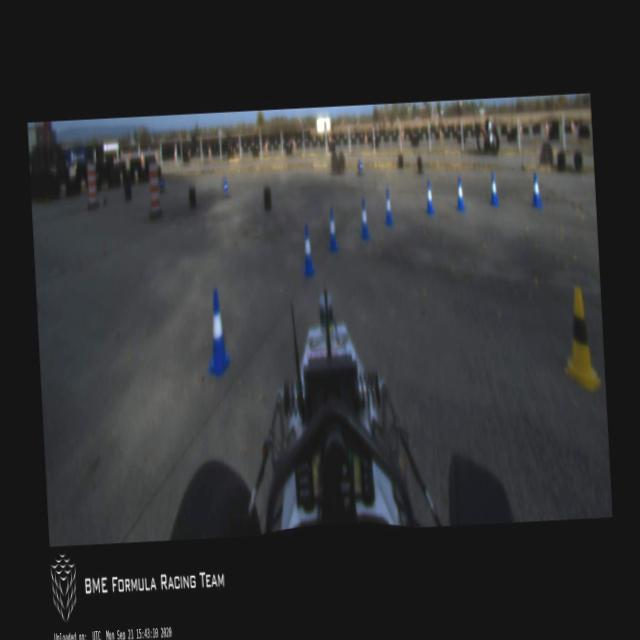blue_cone: (203, 288, 232, 376), (300, 222, 316, 278), (324, 205, 340, 255), (356, 194, 371, 241), (530, 172, 543, 208), (382, 190, 394, 226), (424, 179, 434, 215), (455, 176, 465, 212), (488, 173, 498, 204)
yellow_cone: (562, 287, 598, 393)
